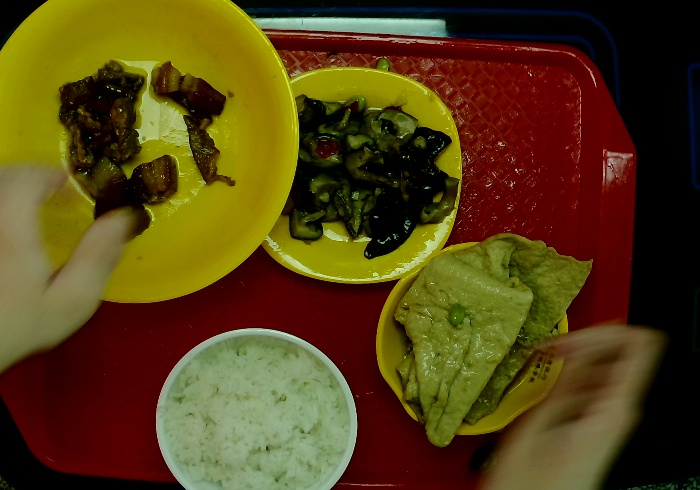YKMZ-Fan_Wan: (152, 325, 361, 490)
YKMZ-Huang_Se_Ao_Bian_Wan: (372, 238, 571, 442)
YKMZ-Huang_Se_Fang_Die: (260, 62, 466, 287)
YKMZ-Huang_Se_Tang_Wan: (1, 1, 301, 307)
